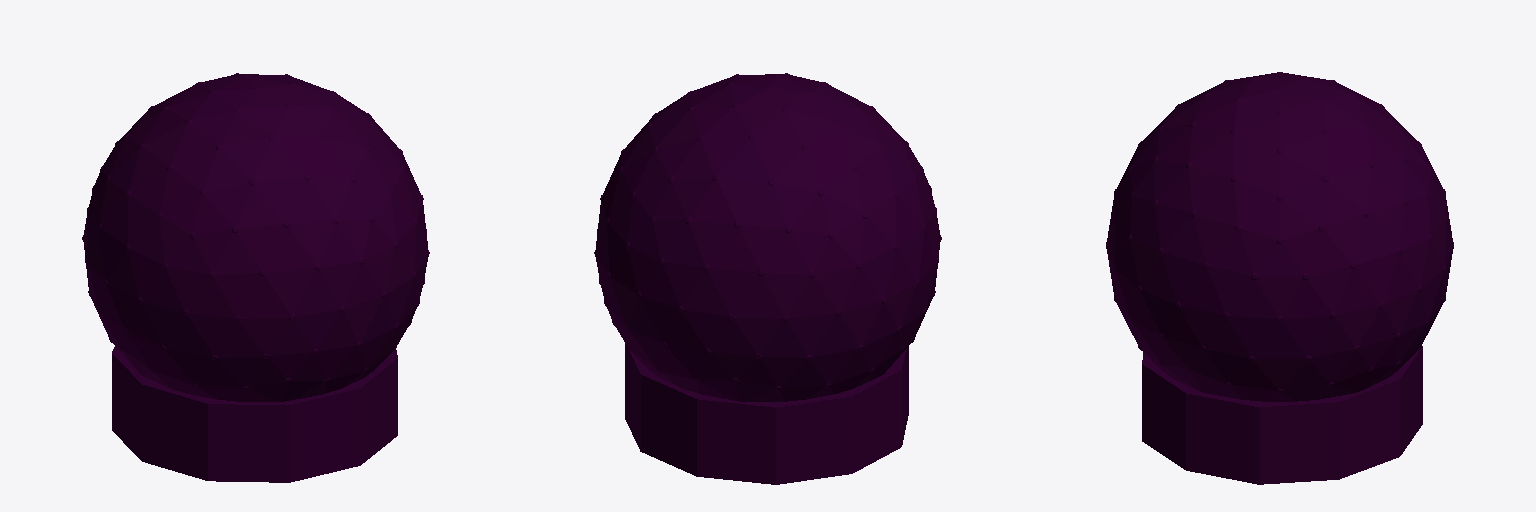
Rendered from placeholder-antenna-01.obj.
3 renders of one model, left to right at view 1: azimuth 30°, elevation 25°; view 2: azimuth 150°, elevation 25°; view 3: azimuth 270°, elevation 25°, orthographic.
Visible parts, largest first — view 1: base_Cylinder; view 2: base_Cylinder; view 3: base_Cylinder.
Boxes of the visible parts, x1=… form: base_Cylinder: x1=82, y1=73, x2=429, y2=482; base_Cylinder: x1=594, y1=73, x2=941, y2=484; base_Cylinder: x1=1106, y1=72, x2=1453, y2=484.
Size of the model in its own units: 16.05 by 17.08 by 16.05.